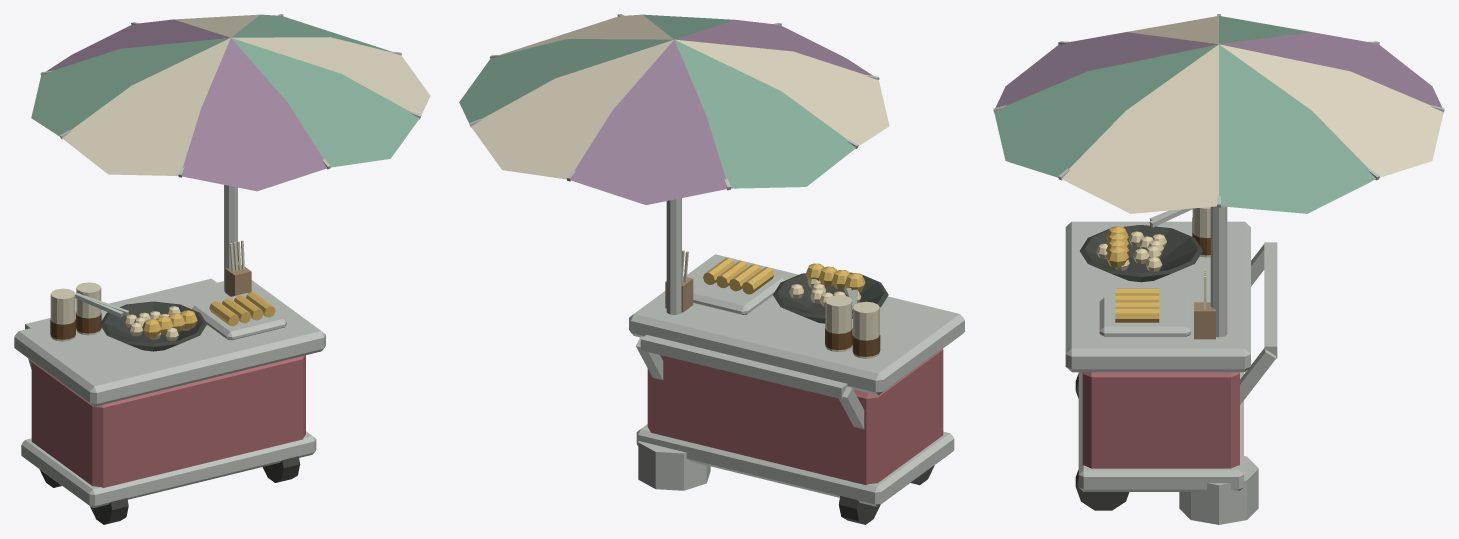
File: frying-cart.glb
3 views of the same model, side by side, from view 1: azimuth 30°, elevation 25°; view 2: azimuth 150°, elevation 25°; view 3: azimuth 270°, elevation 25° (orthographic). The views are drawn at different scales.
Parts seen in each view (by area): view 1: frying-cart; view 2: frying-cart; view 3: frying-cart.
Part boxes in pixels (x1,y1,x2,y2): frying-cart: (14, 14, 430, 524); frying-cart: (459, 14, 964, 524); frying-cart: (993, 14, 1444, 524).
Bounding box in the file's own units: 2.5 × 2.57 × 2.27.
